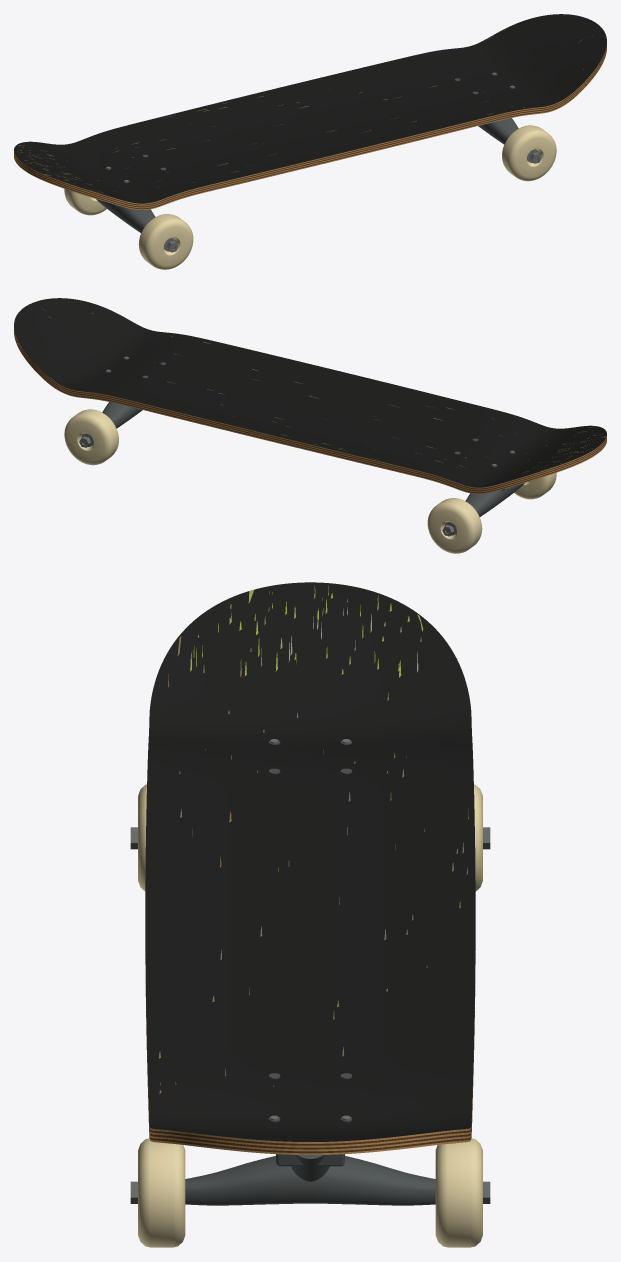
The model's file is runner-skateboard.glb.
3 renders of one model, top to bottom at view 1: azimuth 30°, elevation 25°; view 2: azimuth 150°, elevation 25°; view 3: azimuth 270°, elevation 25°, orthographic. The views are drawn at different scales.
Parts seen in each view (by area): view 1: Deck, Wheel rear right, Wheel front right, Truck rear, Truck front, Wheel rear left; view 2: Deck, Wheel rear left, Wheel front left, Truck rear, Truck front, Wheel rear right; view 3: Deck, Truck front, Wheel front left, Wheel front right.
Boxes of the visible parts, x1,y1,x2,y2 form: Deck: (14, 14, 606, 209); Wheel rear right: (138, 214, 193, 269); Wheel front right: (502, 125, 556, 181); Truck rear: (96, 166, 178, 252); Truck front: (478, 72, 541, 163); Wheel rear left: (64, 189, 106, 215); Deck: (14, 298, 606, 493); Wheel rear left: (427, 498, 482, 553); Wheel front left: (64, 409, 118, 465); Truck rear: (442, 450, 524, 536); Truck front: (79, 356, 142, 447); Wheel rear right: (514, 473, 556, 499); Deck: (145, 582, 475, 1154); Truck front: (130, 1115, 490, 1205); Wheel front left: (435, 1138, 482, 1247); Wheel front right: (138, 1138, 185, 1247).
Bounding box in the file's own units: 1.03 × 0.1748 × 0.2806.
